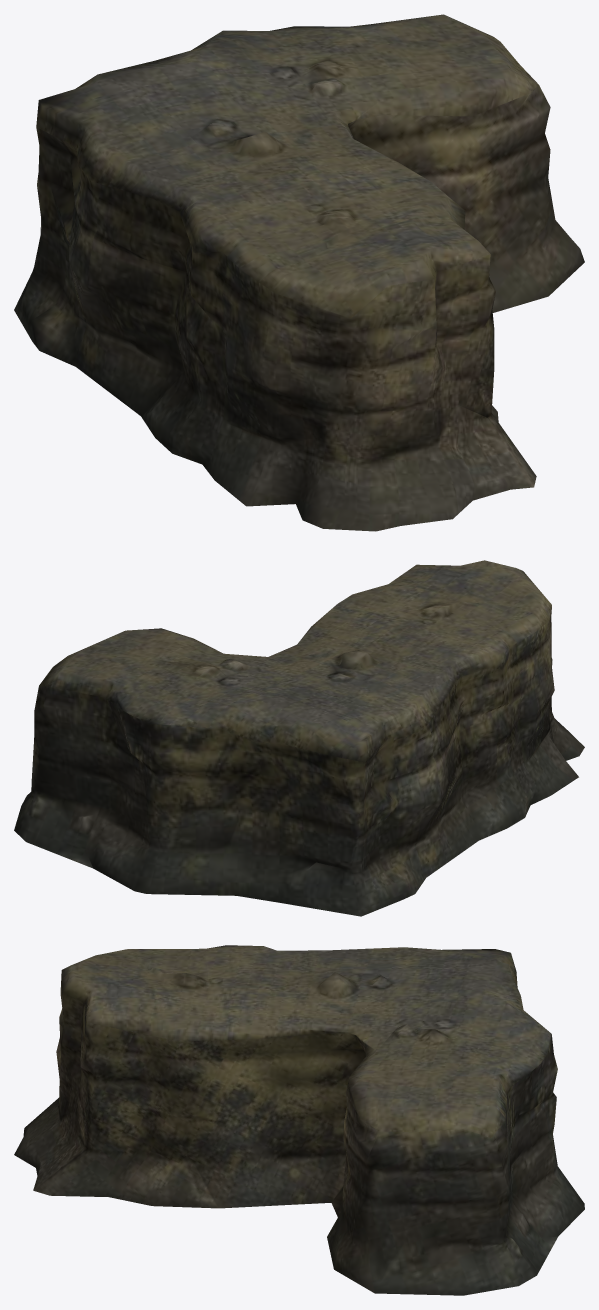
3 views of the same model, one above another, from view 1: azimuth 30°, elevation 25°; view 2: azimuth 150°, elevation 25°; view 3: azimuth 270°, elevation 25° (orthographic). The views are drawn at different scales.
Parts seen in each view (by area): view 1: cliff3; view 2: cliff3; view 3: cliff3.
Part boxes in pixels (x1,y1,x2,y2): cliff3: (14, 14, 584, 531); cliff3: (14, 560, 584, 916); cliff3: (14, 945, 584, 1295).
Bounding box in the file's own units: 17.78 × 7.7 × 21.93.
Materials: 1 (1 with a texture image).
